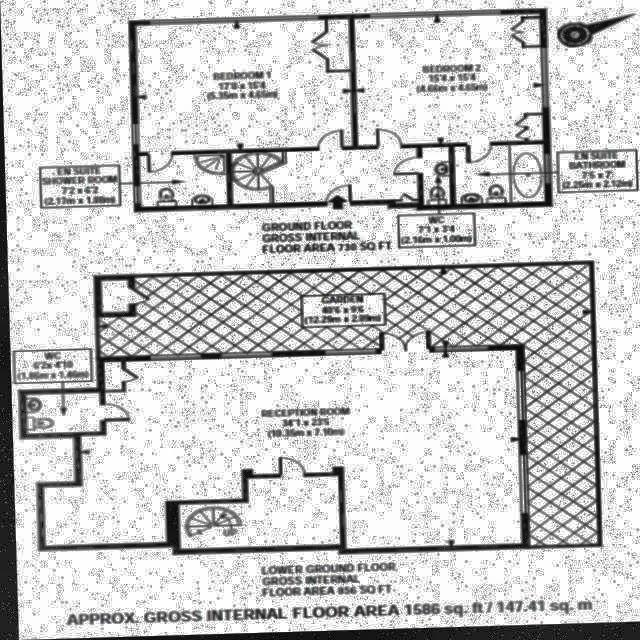room: (96, 267, 596, 555), (37, 352, 520, 558), (134, 21, 352, 154), (354, 16, 543, 149), (174, 477, 337, 551), (229, 150, 417, 206), (453, 147, 543, 207), (137, 155, 226, 208), (23, 393, 99, 434), (421, 150, 449, 208), (99, 282, 126, 313)
